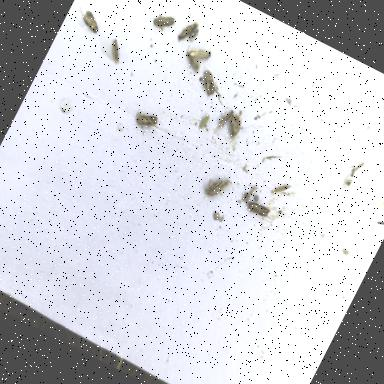pbw: (222, 104, 252, 142), (72, 5, 106, 36), (179, 44, 207, 72), (196, 70, 222, 98), (134, 109, 162, 134), (150, 10, 176, 35), (177, 16, 200, 44), (105, 38, 128, 66), (213, 106, 234, 136), (189, 42, 213, 64), (197, 112, 212, 132)
